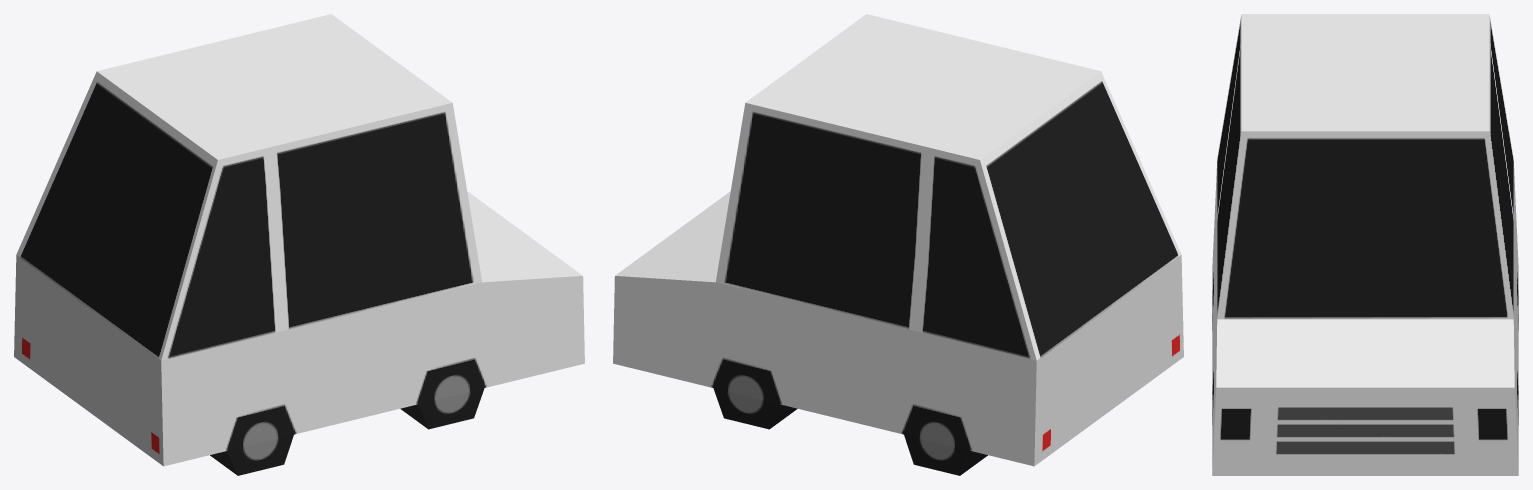
The model's file is car_default.dae.
The picture shows the model from 3 angles, left to right: view 1: azimuth 30°, elevation 25°; view 2: azimuth 150°, elevation 25°; view 3: azimuth 270°, elevation 25°; orthographic projection. The views are drawn at different scales.
Parts seen in each view (by area): view 1: carDefault; view 2: carDefault; view 3: carDefault.
Boxes of the visible parts, x1,y1,x2,y2 form: carDefault: (14, 14, 584, 475); carDefault: (613, 14, 1183, 475); carDefault: (1212, 14, 1518, 475).
Size of the model in its own units: 264 by 184 by 162.
1 material, 1 textured.
